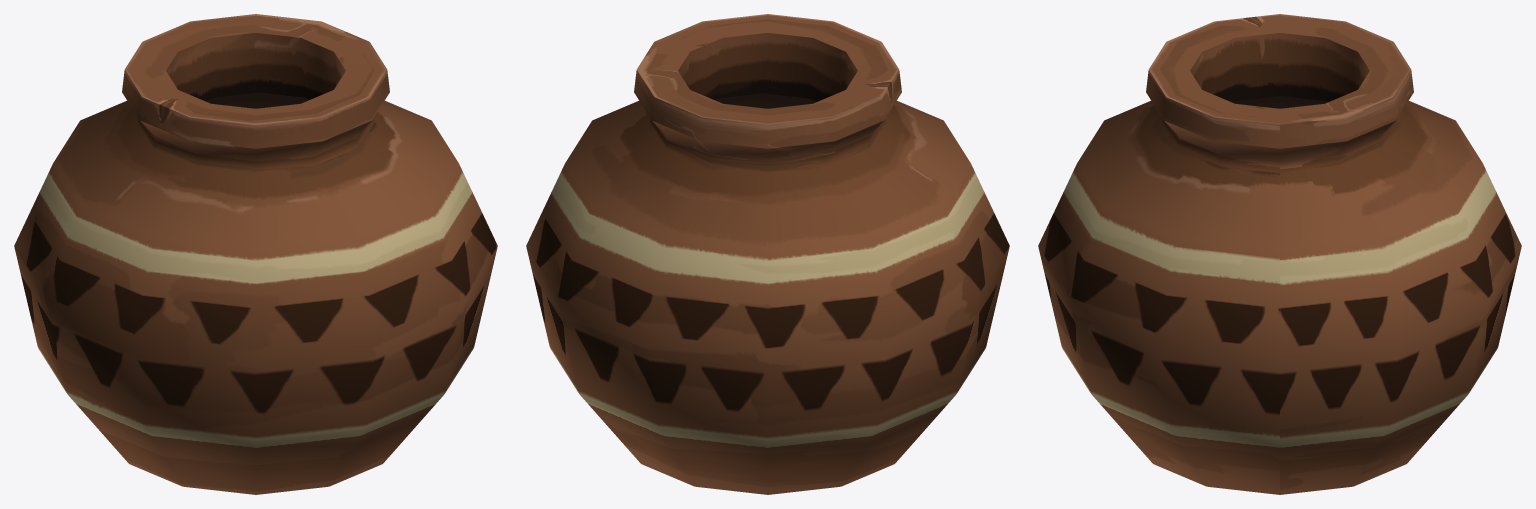
File: SM_PROP_pot_dungeon_01.fbx
The picture shows the model from 3 angles, left to right: view 1: azimuth 30°, elevation 25°; view 2: azimuth 150°, elevation 25°; view 3: azimuth 270°, elevation 25°; orthographic projection.
Parts seen in each view (by area): view 1: SM_PROP_pot_dungeon_01; view 2: SM_PROP_pot_dungeon_01; view 3: SM_PROP_pot_dungeon_01.
Part boxes in pixels (box(x1,y1,x2,y2)): SM_PROP_pot_dungeon_01: box(14, 14, 497, 494); SM_PROP_pot_dungeon_01: box(526, 14, 1009, 494); SM_PROP_pot_dungeon_01: box(1038, 14, 1521, 494).
Bounding box in the file's own units: 40.59 × 33.66 × 40.59.
